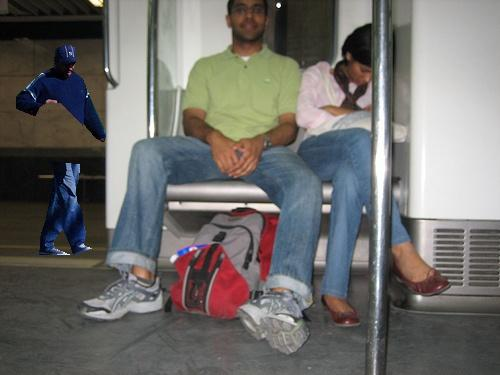tampered: (17, 46, 106, 255)
